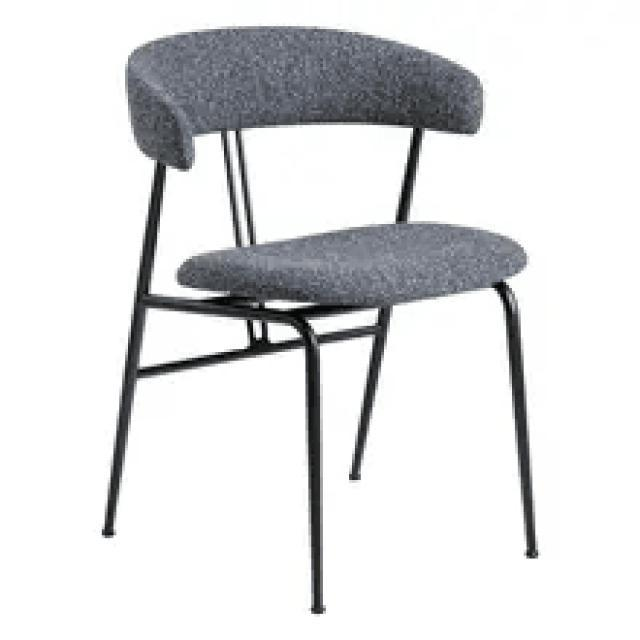chair: (95, 20, 543, 616), (116, 23, 528, 320)
